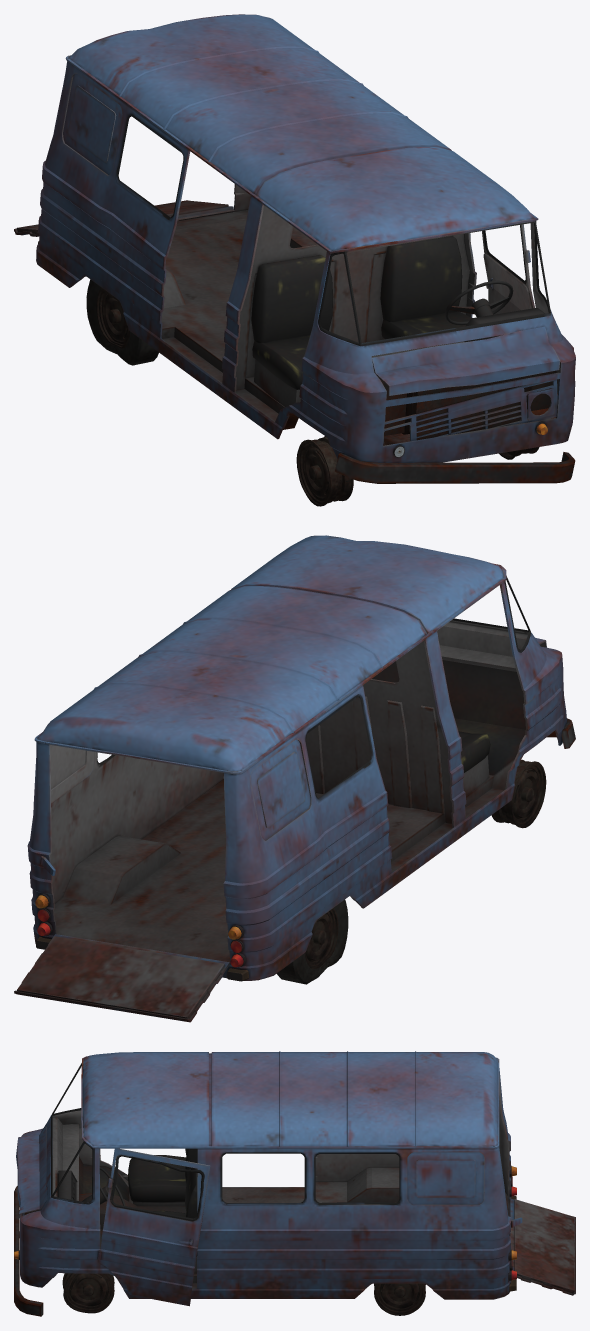
Rendered from wrecked_fsc_zuk.glb.
The picture shows the model from 3 angles, top to bottom: view 1: azimuth 30°, elevation 25°; view 2: azimuth 150°, elevation 25°; view 3: azimuth 270°, elevation 25°; orthographic projection. The views are drawn at different scales.
Visible parts, largest first — view 1: zuk_body-material, zuk_interior-material, zuk_chassis-material; view 2: zuk_body-material, zuk_interior-material, zuk_chassis-material, zuk_lights-material; view 3: zuk_body-material, zuk_interior-material, zuk_chassis-material, zuk_lights-material.
Boxes of the visible parts, x1=… form: zuk_body-material: x1=14, y1=14, x2=575, y2=462; zuk_interior-material: x1=161, y1=205, x2=575, y2=483; zuk_chassis-material: x1=86, y1=279, x2=556, y2=506; zuk_body-material: x1=14, y1=535, x2=566, y2=1022; zuk_interior-material: x1=54, y1=622, x2=575, y2=963; zuk_chassis-material: x1=276, y1=759, x2=546, y2=984; zuk_lights-material: x1=35, y1=893, x2=248, y2=981; zuk_body-material: x1=16, y1=1051, x2=575, y2=1306; zuk_interior-material: x1=14, y1=1117, x2=508, y2=1316; zuk_chassis-material: x1=25, y1=1210, x2=425, y2=1315; zuk_lights-material: x1=14, y1=1165, x2=516, y2=1291.
Bounding box in the file's own units: 96.75 × 93.1 × 233.
Materials: 4 (4 with a texture image).
